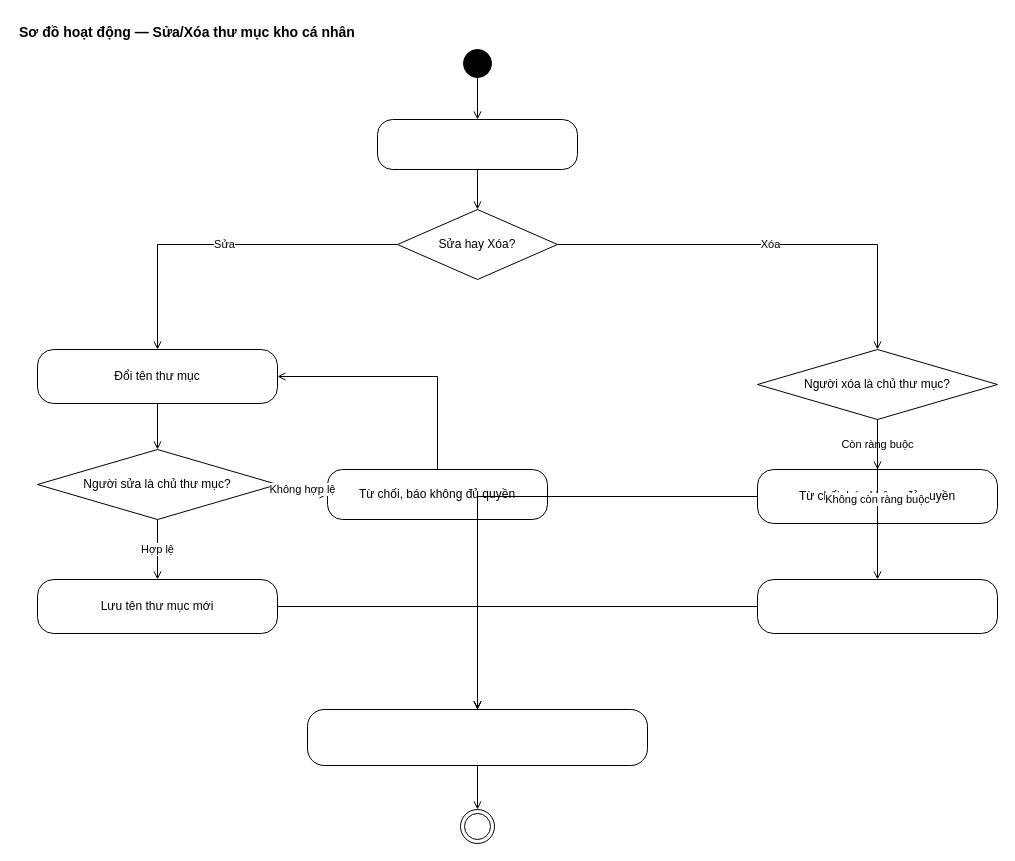
Image size: 1015x861. Some labels were removed from this diagram. The shapes that lost their labels are listed below. From the top down, each one's centre as x and y in pixels, then its label:
At [477,144]: "Chọn thư mục cần Sửa hoặc Xóa".
At [877,606]: "Xóa thư mục, thư mục con và đề lưu bên trong".
At [477,737]: "Hiển thị kết quả cho người dùng".
